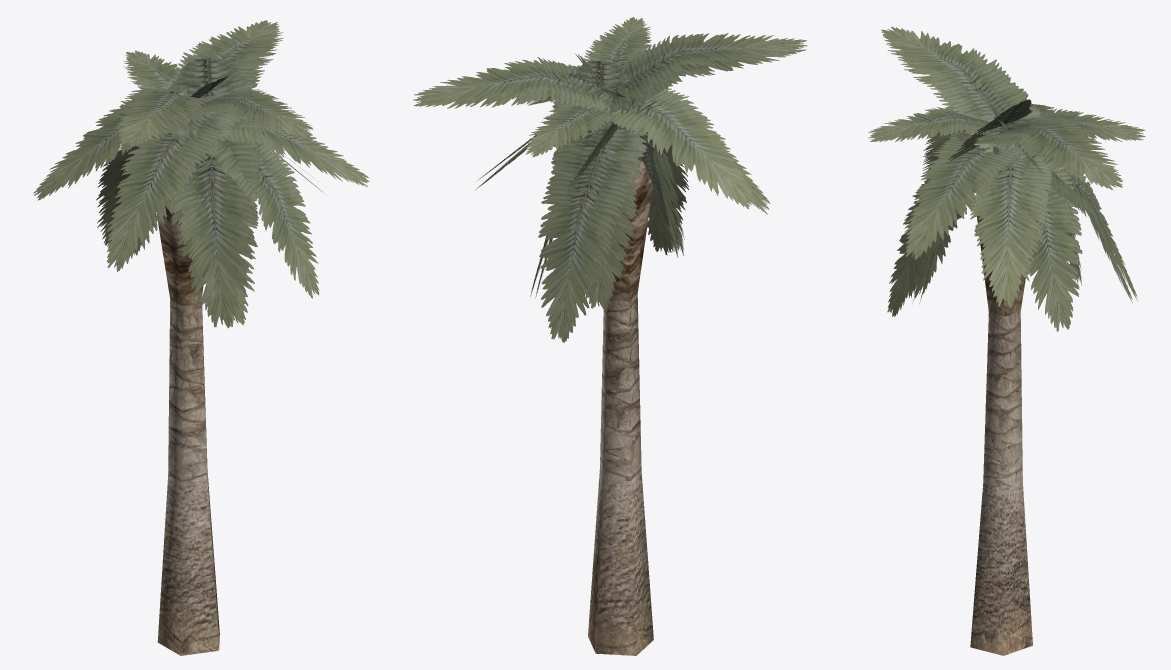
Rendered from palm01.fbx.
3 renders of one model, left to right at view 1: azimuth 30°, elevation 25°; view 2: azimuth 150°, elevation 25°; view 3: azimuth 270°, elevation 25°, orthographic. The views are drawn at different scales.
Parts seen in each view (by area): view 1: polySurface1; view 2: polySurface1; view 3: polySurface1.
Part boxes in pixels (left/top/right/bottom): polySurface1: left=33, top=20, right=369, bottom=655; polySurface1: left=413, top=17, right=807, bottom=655; polySurface1: left=868, top=26, right=1145, bottom=655.
Bounding box in the file's own units: 383 × 657 × 329.
